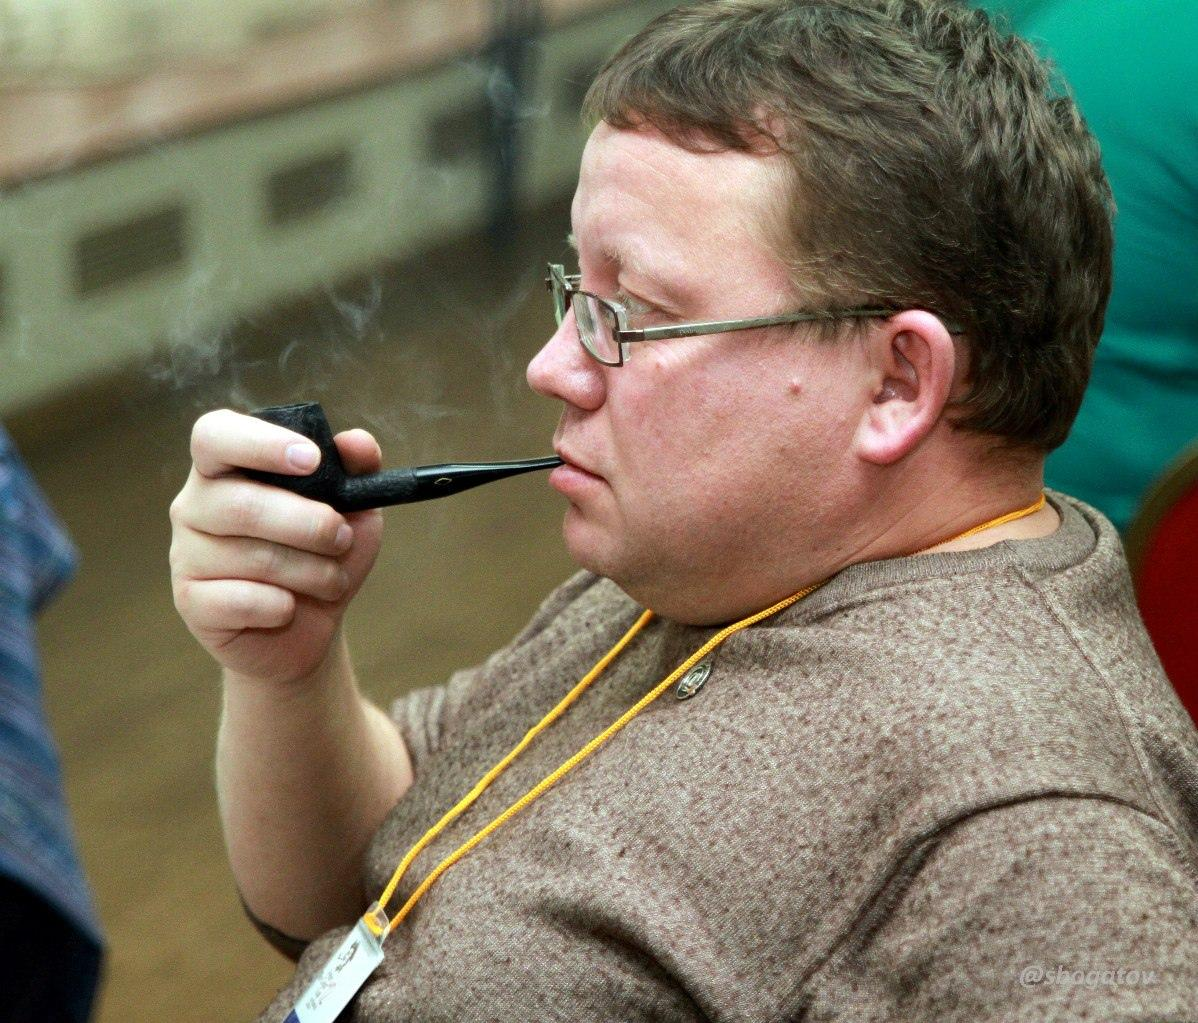trubka: (243, 404, 562, 513)
